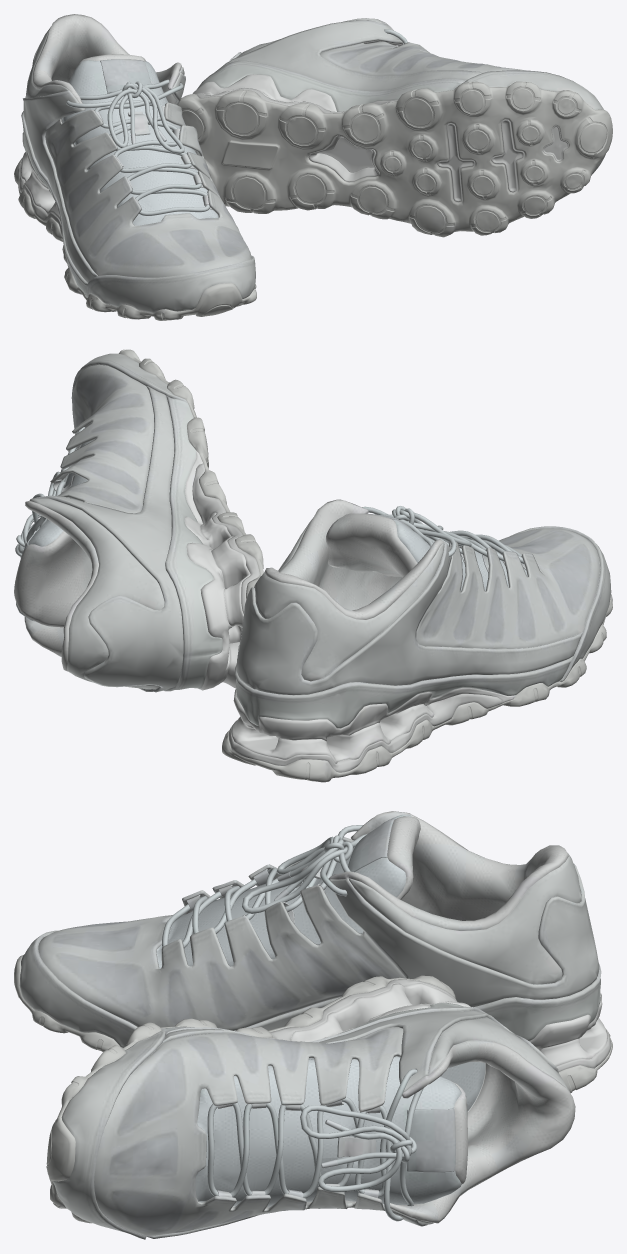
The model's file is Womens_Sneakers_7.obj.
The picture shows the model from 3 angles, top to bottom: view 1: azimuth 30°, elevation 25°; view 2: azimuth 150°, elevation 25°; view 3: azimuth 270°, elevation 25°; orthographic projection. The views are drawn at different scales.
Visible parts, largest first — view 1: Womens_Sneakers_7_Part_002, Womens_Sneakers_7_Part_005, Womens_Sneakers_7_Part_004; view 2: Womens_Sneakers_7_Part_005, Womens_Sneakers_7_Part_002, Womens_Sneakers_7_Part_004, Womens_Sneakers_7_Part_001; view 3: Womens_Sneakers_7_Part_002, Womens_Sneakers_7_Part_005, Womens_Sneakers_7_Part_001, Womens_Sneakers_7_Part_004.
Part boxes in pixels (x1,y1,x2,y2): Womens_Sneakers_7_Part_002: (178, 18, 612, 237); Womens_Sneakers_7_Part_005: (14, 14, 256, 320); Womens_Sneakers_7_Part_004: (66, 79, 210, 215); Womens_Sneakers_7_Part_005: (222, 499, 612, 782); Womens_Sneakers_7_Part_002: (14, 349, 263, 692); Womens_Sneakers_7_Part_004: (362, 506, 524, 564); Womens_Sneakers_7_Part_001: (18, 427, 85, 557); Womens_Sneakers_7_Part_002: (46, 975, 575, 1239); Womens_Sneakers_7_Part_005: (14, 811, 612, 1092); Womens_Sneakers_7_Part_001: (207, 1069, 423, 1221); Womens_Sneakers_7_Part_004: (162, 825, 367, 948).
Size of the model in its own units: 34.13 by 12.22 by 28.23.
